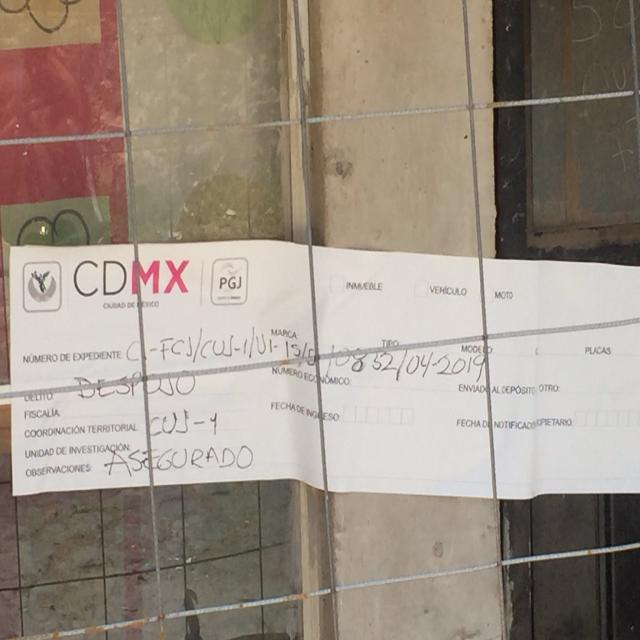stamps: (10, 239, 637, 498)
